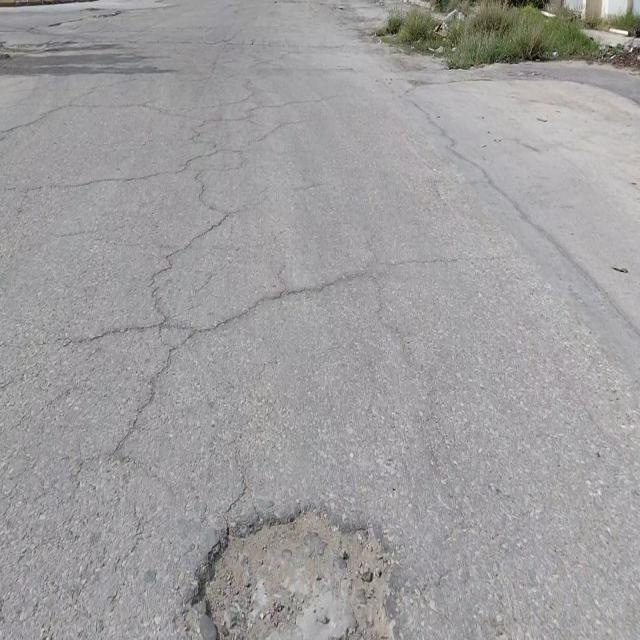Potholes: (191, 498, 398, 638)
